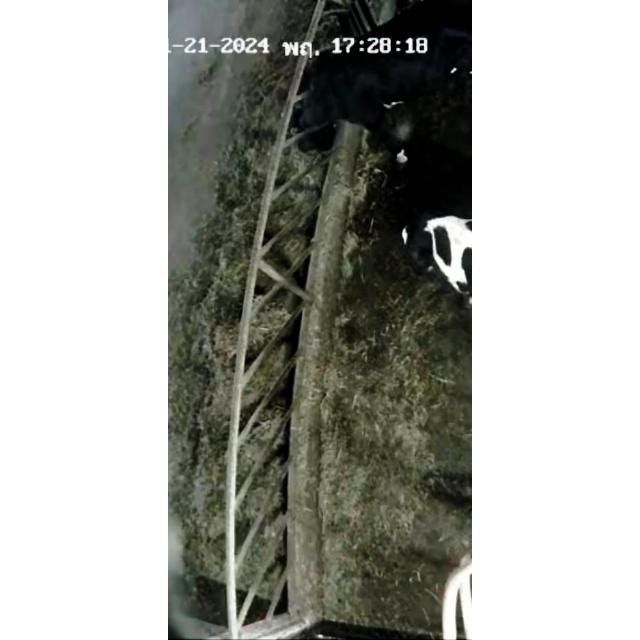eat: (238, 22, 394, 148)
